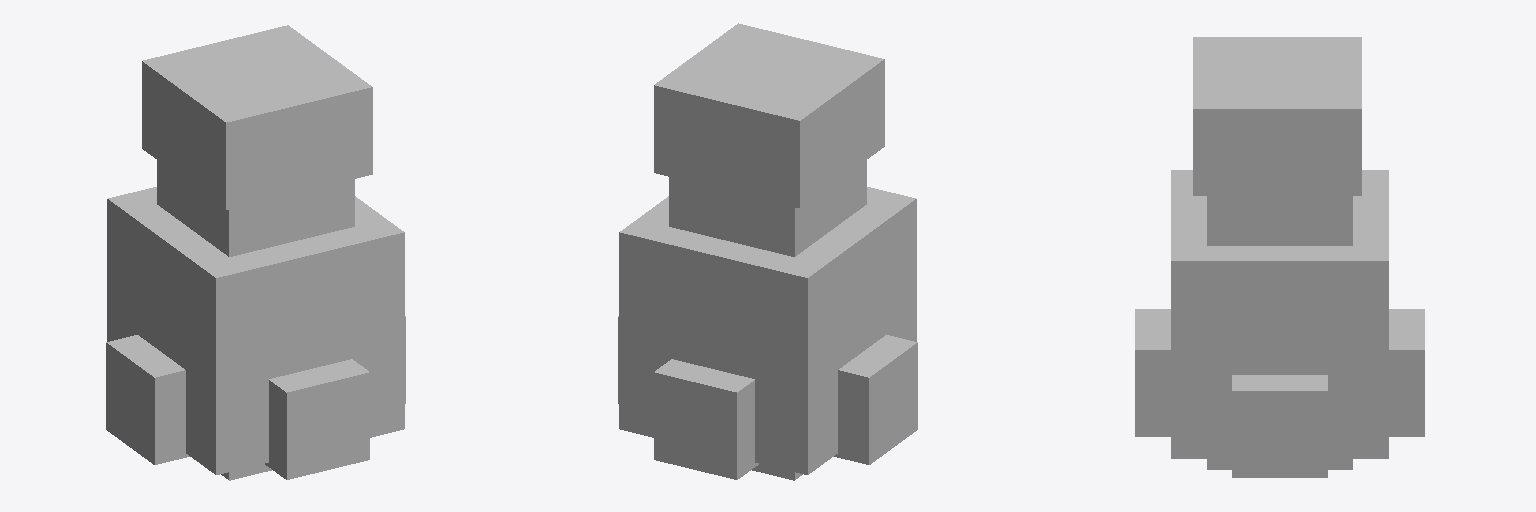
The model's file is mana_vase_fire.obj.
3 views of the same model, side by side, from view 1: azimuth 30°, elevation 25°; view 2: azimuth 150°, elevation 25°; view 3: azimuth 270°, elevation 25° (orthographic).
Parts seen in each view (by area): view 1: vent1; view 2: vent1; view 3: vent1.
Part boxes in pixels (left/top/right/bottom): vent1: left=106, top=25, right=405, bottom=480; vent1: left=618, top=23, right=917, bottom=480; vent1: left=1135, top=37, right=1424, bottom=477.
Bounding box in the file's own units: 0.75 × 1.04 × 0.75.